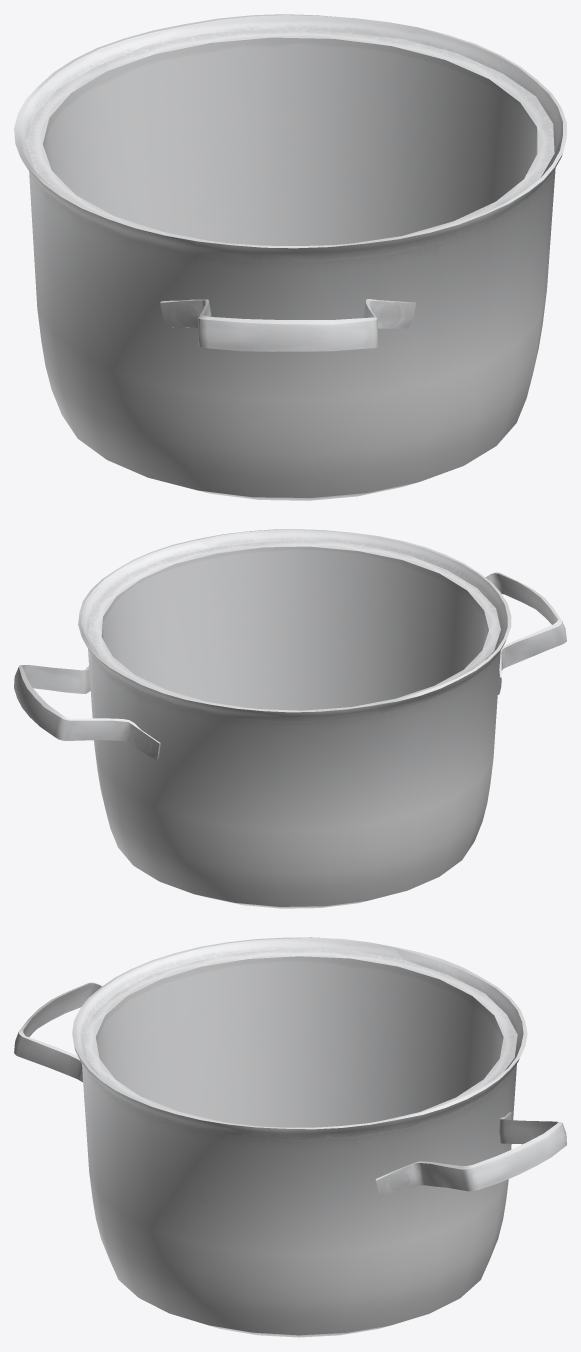
File: SM_Pan_A1.fbx
The picture shows the model from 3 angles, top to bottom: view 1: azimuth 30°, elevation 25°; view 2: azimuth 150°, elevation 25°; view 3: azimuth 270°, elevation 25°; orthographic projection. The views are drawn at different scales.
Parts seen in each view (by area): view 1: SM_Pan_A1; view 2: SM_Pan_A1; view 3: SM_Pan_A1.
Boxes of the visible parts, left/top/right/bottom form: SM_Pan_A1: left=14, top=14, right=566, bottom=500; SM_Pan_A1: left=14, top=529, right=566, bottom=908; SM_Pan_A1: left=14, top=937, right=566, bottom=1337.
Bounding box in the file's own units: 22.83 × 26.98 × 12.68.
Materials: 1 (1 with a texture image).
